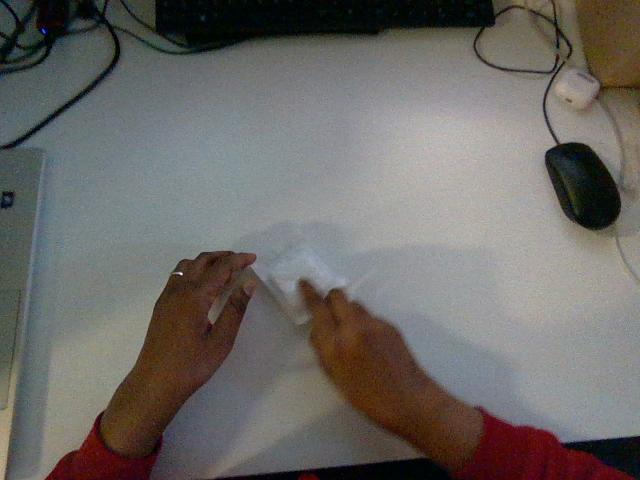gauze: (256, 244, 346, 324)
